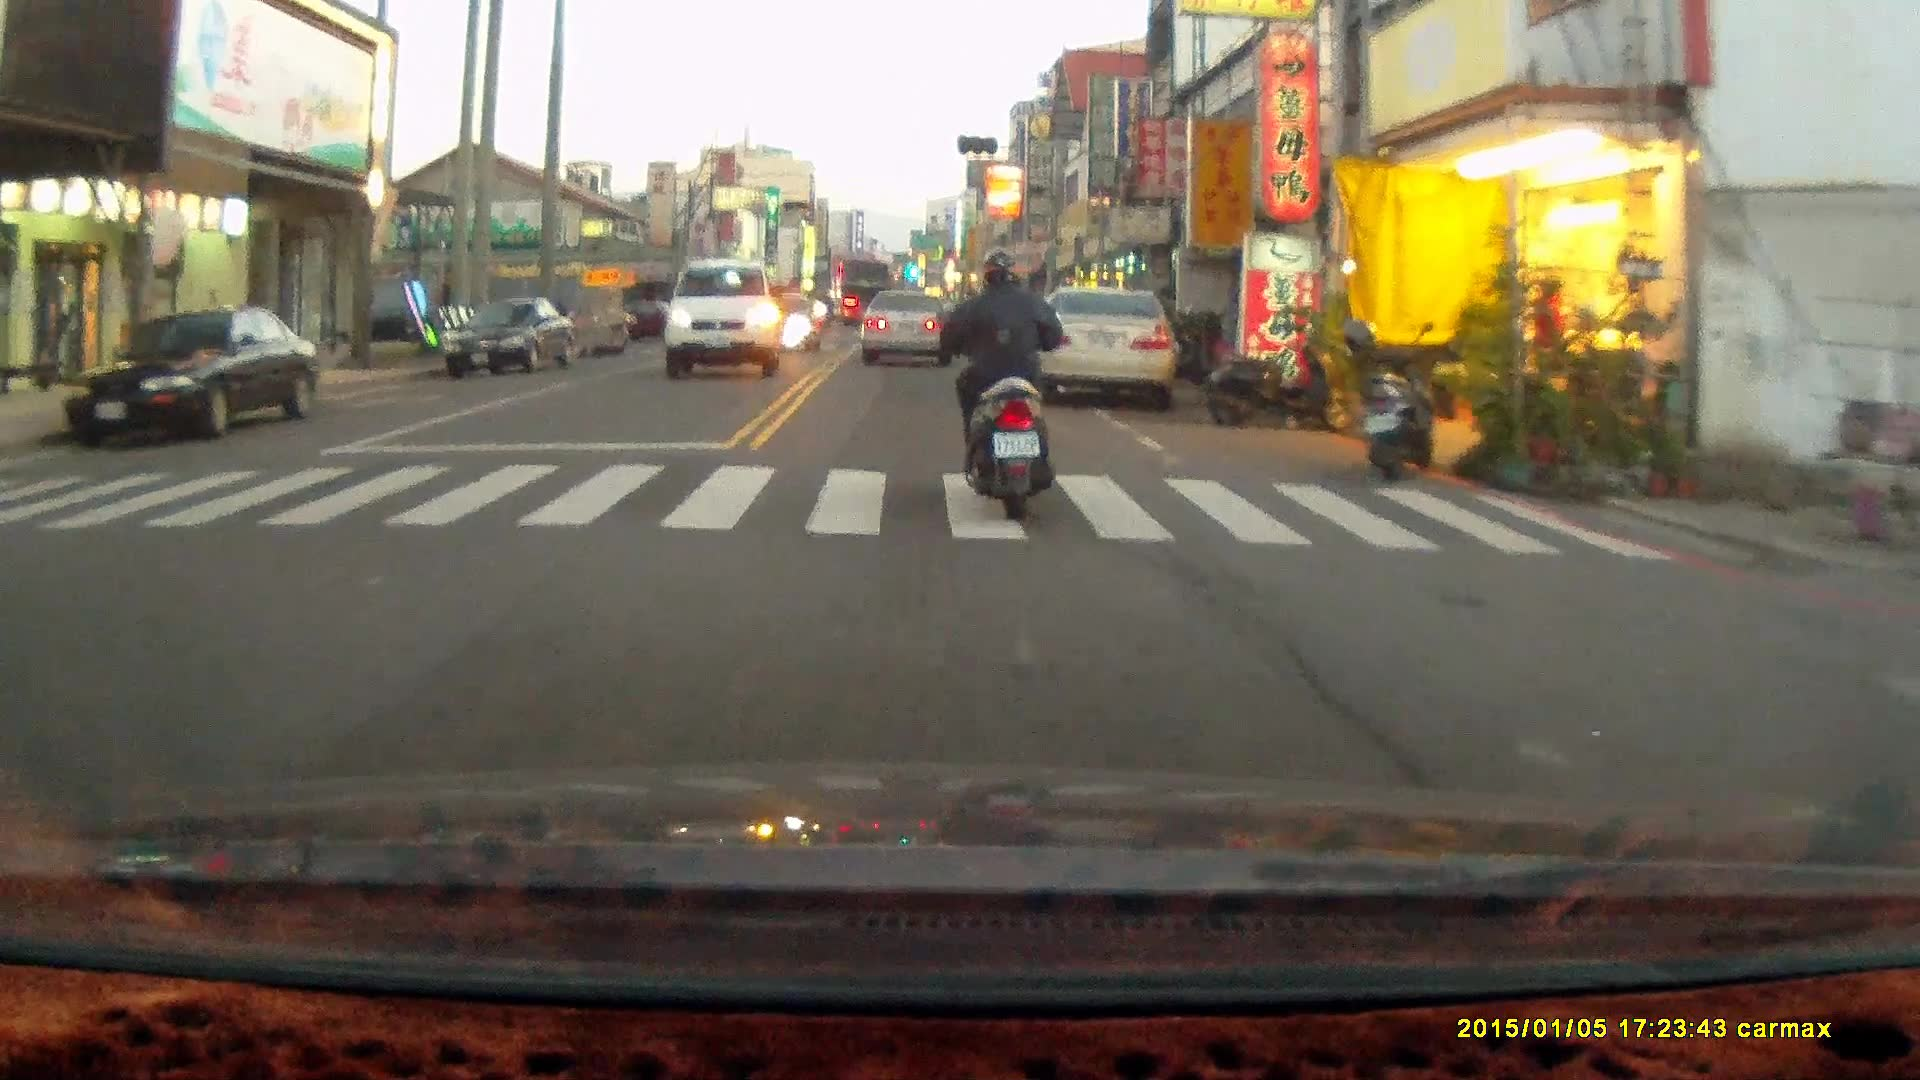pedestrian: (1533, 276, 1571, 405)
rider: (935, 243, 1062, 517)
vehicle: (69, 308, 320, 449), (1032, 284, 1180, 410), (664, 261, 786, 386), (444, 301, 576, 385), (857, 287, 954, 364)
